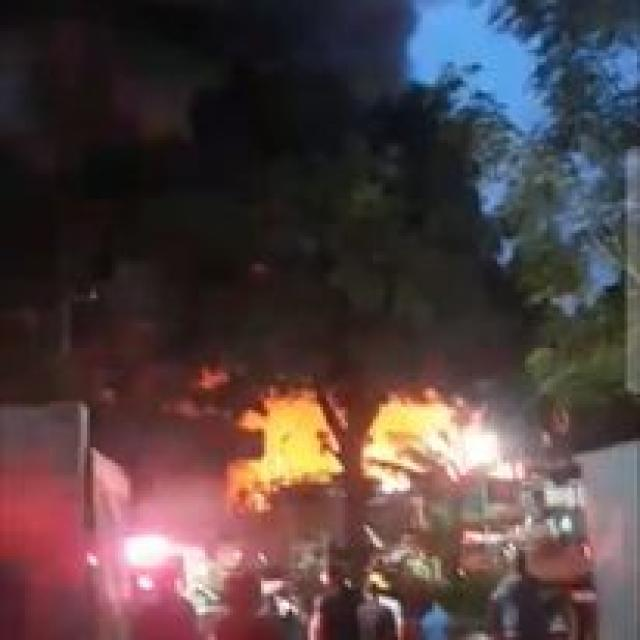Fire: (235, 369, 362, 504), (326, 399, 464, 480)
Smoke: (0, 0, 428, 130)
